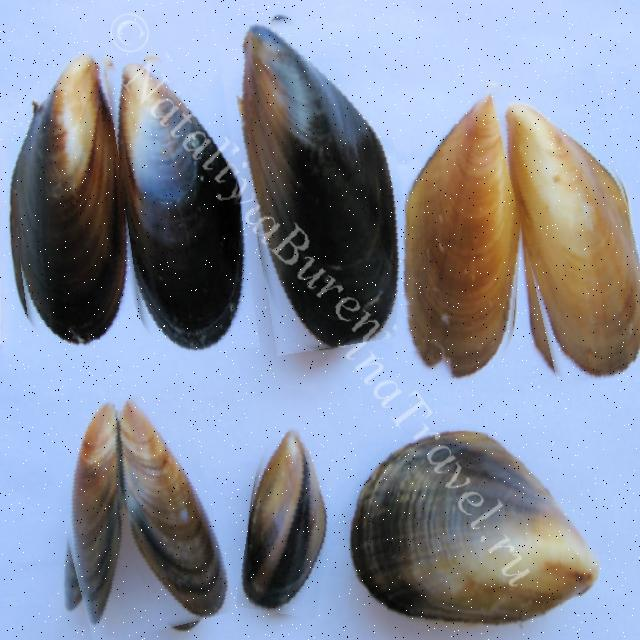Mytilus_galloprovincialis: (10, 48, 242, 354), (238, 10, 412, 351), (351, 429, 600, 631), (52, 391, 225, 639), (506, 68, 640, 386), (116, 54, 250, 360), (2, 46, 134, 353), (398, 81, 527, 385), (242, 425, 337, 617)
